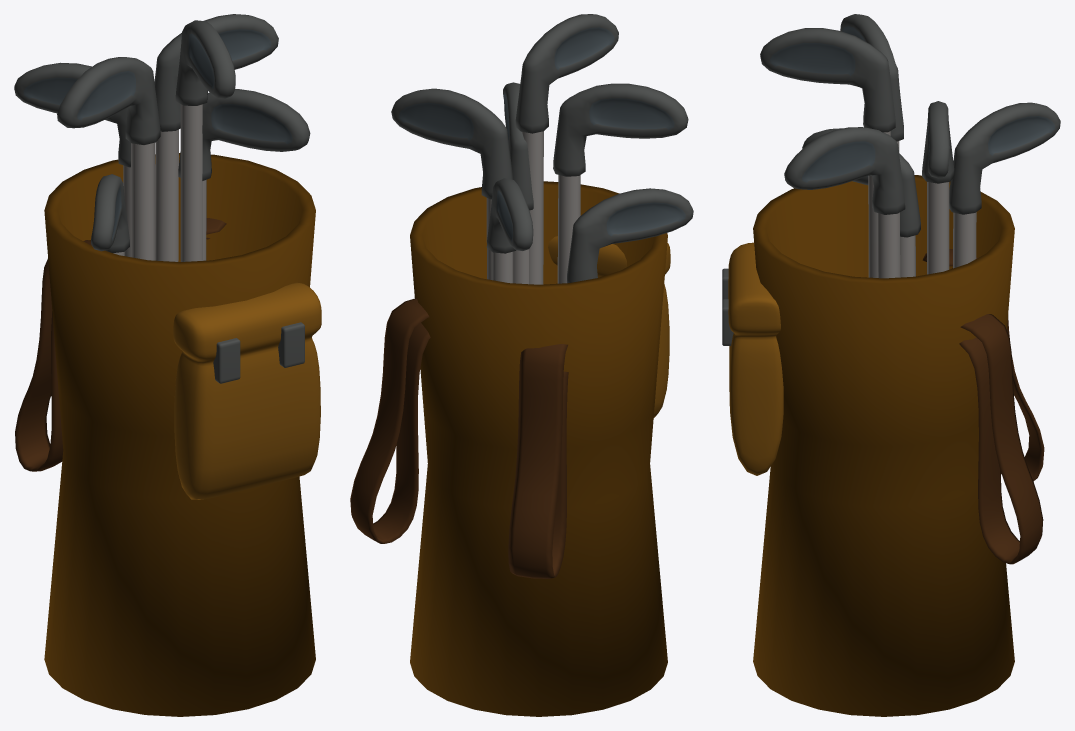
File: SM_Golftasche.fbx
3 views of the same model, side by side, from view 1: azimuth 30°, elevation 25°; view 2: azimuth 150°, elevation 25°; view 3: azimuth 270°, elevation 25° (orthographic). The views are drawn at different scales.
Visible parts, largest first — view 1: Golftasche.001; view 2: Golftasche.001; view 3: Golftasche.001.
Part boxes in pixels (box(x1,y1,x2,y2)): Golftasche.001: box(14, 14, 321, 716); Golftasche.001: box(350, 14, 693, 716); Golftasche.001: box(722, 14, 1060, 716).
Bounding box in the file's own units: 72.7 × 171 × 82.96.
